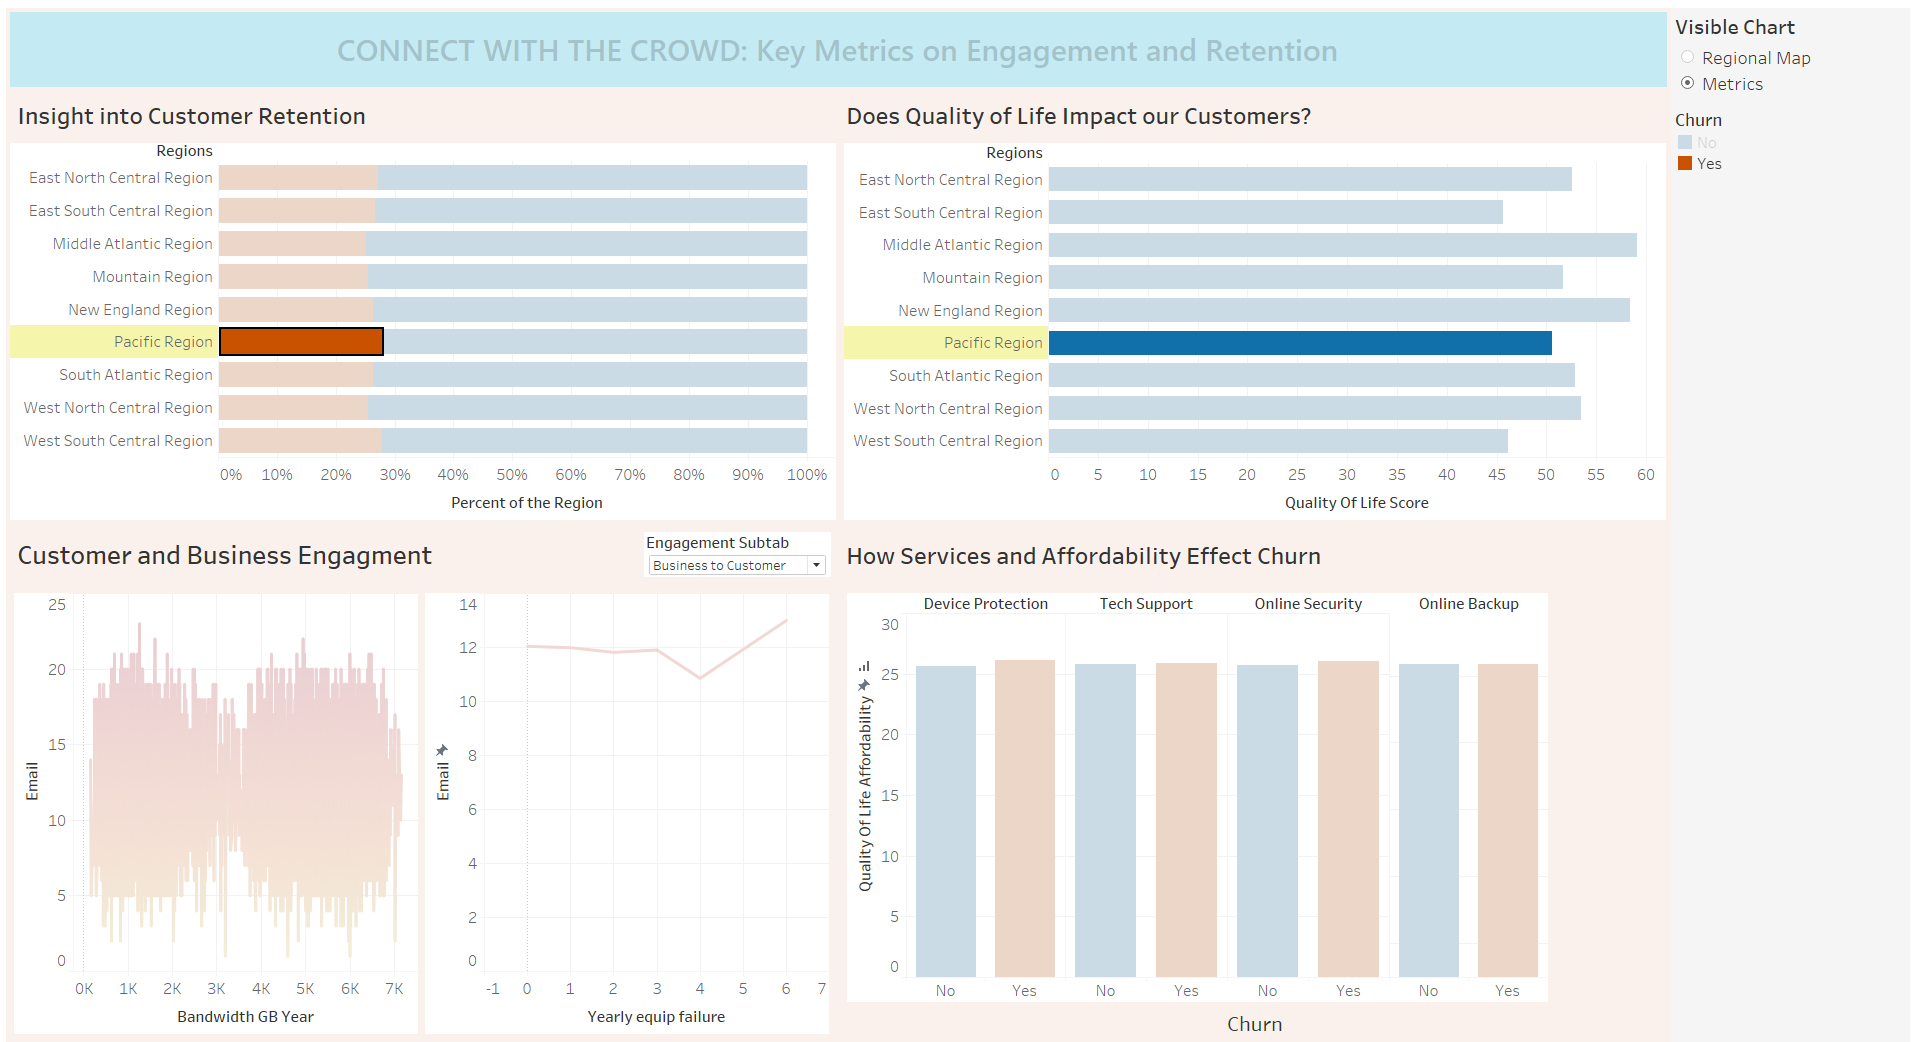

Layout of this report page (visuals, bound fields, positions):
{"tool":"tableau","page":{"name":"Dashboard","canvas":[1000,1000],"units":"permille","ordinal":0},"visuals":[{"type":"parameter","param":"[Parameters].[Parameter 2]","box":[870.6,9.3,124.6,110.3]},{"type":"worksheet","title":"Dash Title","mark":"Automatic","box":[7.2,13.9,860.9,69.3]},{"type":"worksheet","title":"Regions","mark":"Multipolygon","box":[4.8,87.9,865.7,410.8]},{"type":"text","box":[7.2,92.9,430.9,46.5]},{"type":"text","box":[438.1,92.9,430.3,46.5]},{"type":"legend","title":"Regions","param":"[federated.07l10p31xe8tpb171ylyb1hwssl0].[cnt:Customer_id:qk]","box":[870.6,119.6,124.6,88.3]},{"type":"legend","title":"Regional Churn","param":"[federated.07l10p31xe8tpb171ylyb1hwssl0].[none:Churn:nk]","box":[870.6,119.6,124.6,87.1]},{"type":"worksheet","title":"Regional Churn","mark":"Automatic","box":[4.8,143.7,434.1,355]},{"type":"worksheet","title":"Regional QoL","mark":"Automatic","cols":["QualityOfLifeTotalScore"],"box":[438.9,143.7,431.7,355]},{"type":"text","box":[438.1,498.3,432.7,70.9]},{"type":"text","box":[7.2,502.9,310.8,61.6]},{"type":"text","box":[7.2,502.9,140.6,61.6]},{"type":"blank","box":[147.8,502.9,182.9,61.6]},{"type":"parameter","param":"[Parameters].[Parameter 5]","box":[318.1,502.9,117.7,61.6]},{"type":"parameter","param":"[Parameters].[Parameter 3]","box":[330.7,502.9,105,61.6]},{"type":"text","box":[440.6,502.9,156.9,61.6]},{"type":"blank","box":[597.5,502.9,169.6,61.6]},{"type":"parameter","param":"[Parameters].[Parameter 4]","box":[767.1,502.9,101.4,61.6]},{"type":"worksheet","title":"Gender","mark":"Pie","box":[439.6,561,429.2,313.3]},{"type":"worksheet","title":"Income","mark":"Automatic","rows":["Income"],"cols":["Income (bin)"],"box":[4.8,569.1,433.3,1.2]},{"type":"worksheet","title":"Age","mark":"Automatic","rows":["Age"],"cols":["Age (bin)"],"box":[4.8,570.3,433.3,419.3]},{"type":"worksheet","title":"Email vs Bandwidth","mark":"Automatic","rows":["Email"],"cols":["Bandwidth_GB_Year"],"box":[7.2,573.8,213.6,412.3]},{"type":"worksheet","title":"Email vs Failure","mark":"Automatic","rows":["Email"],"cols":["Yearly_equip_failure"],"box":[220.9,573.8,213.6,412.3]},{"type":"worksheet","title":"Contact vs Bandwidth","mark":"Automatic","rows":["Contacts"],"cols":["Bandwidth_GB_Year"],"box":[434.5,573.8,0.6,412.3]},{"type":"worksheet","title":"Contact vs Failure","mark":"Automatic","rows":["Contacts"],"cols":["Yearly_equip_failure"],"box":[435.1,573.8,0.6,412.3]},{"type":"worksheet","title":"Device Protection","mark":"Automatic","rows":["QualityOfLifeAffordability"],"cols":["DeviceProtection"],"box":[440.6,573.8,133.7,412.3]},{"type":"worksheet","title":"Pop. Dens.","mark":"Pie","box":[440.6,573.8,427.9,382.1]},{"type":"worksheet","title":"Tech Support","mark":"Automatic","rows":["QualityOfLifeAffordability"],"cols":["TechSupport"],"box":[574.2,573.8,98.1,412.3]},{"type":"worksheet","title":"Online Security","mark":"Automatic","rows":["QualityOfLifeAffordability"],"cols":["OnlineSecurity"],"box":[672.3,573.8,98.1,412.3]},{"type":"worksheet","title":"Online Backup","mark":"Automatic","rows":["QualityOfLifeAffordability"],"cols":["OnlineBackup"],"box":[770.3,573.8,98.1,412.3]},{"type":"worksheet","title":"Martial Status","mark":"Pie","box":[440.6,574.9,427.9,382.1]},{"type":"worksheet","title":"Monthly Charge","mark":"Automatic","rows":["MonthlyCharge"],"cols":["Monthly Charge (bin)"],"box":[4.8,989.6,433.3,1.2]}]}

Visuals, with their boxes on the dashboard's canvas, which has no fixed pixel size, in thousandths of its width and height (x1, y1, x2, y2). These are canvas units, not pixel positions in the 1918x1042 screenshot, which may show the page scaled, cropped or inside an application window:
parameter: pyautogui.locateOnScreen(871, 9, 995, 120)
"Dash Title" worksheet: pyautogui.locateOnScreen(7, 14, 868, 83)
"Regions" worksheet (Multipolygon marks): pyautogui.locateOnScreen(5, 88, 870, 499)
text: pyautogui.locateOnScreen(7, 93, 438, 139)
text: pyautogui.locateOnScreen(438, 93, 868, 139)
"Regions" legend: pyautogui.locateOnScreen(871, 120, 995, 208)
"Regional Churn" legend: pyautogui.locateOnScreen(871, 120, 995, 207)
"Regional Churn" worksheet: pyautogui.locateOnScreen(5, 144, 439, 499)
"Regional QoL" worksheet: pyautogui.locateOnScreen(439, 144, 871, 499)
text: pyautogui.locateOnScreen(438, 498, 871, 569)
text: pyautogui.locateOnScreen(7, 503, 318, 564)
text: pyautogui.locateOnScreen(7, 503, 148, 564)
blank: pyautogui.locateOnScreen(148, 503, 331, 564)
parameter: pyautogui.locateOnScreen(318, 503, 436, 564)
parameter: pyautogui.locateOnScreen(331, 503, 436, 564)
text: pyautogui.locateOnScreen(441, 503, 598, 564)
blank: pyautogui.locateOnScreen(598, 503, 767, 564)
parameter: pyautogui.locateOnScreen(767, 503, 868, 564)
"Gender" worksheet (Pie marks): pyautogui.locateOnScreen(440, 561, 869, 874)
"Income" worksheet: pyautogui.locateOnScreen(5, 569, 438, 570)
"Age" worksheet: pyautogui.locateOnScreen(5, 570, 438, 990)
"Email vs Bandwidth" worksheet: pyautogui.locateOnScreen(7, 574, 221, 986)
"Email vs Failure" worksheet: pyautogui.locateOnScreen(221, 574, 434, 986)
"Contact vs Bandwidth" worksheet: pyautogui.locateOnScreen(434, 574, 435, 986)
"Contact vs Failure" worksheet: pyautogui.locateOnScreen(435, 574, 436, 986)
"Device Protection" worksheet: pyautogui.locateOnScreen(441, 574, 574, 986)
"Pop. Dens." worksheet (Pie marks): pyautogui.locateOnScreen(441, 574, 868, 956)
"Tech Support" worksheet: pyautogui.locateOnScreen(574, 574, 672, 986)
"Online Security" worksheet: pyautogui.locateOnScreen(672, 574, 770, 986)
"Online Backup" worksheet: pyautogui.locateOnScreen(770, 574, 868, 986)
"Martial Status" worksheet (Pie marks): pyautogui.locateOnScreen(441, 575, 868, 957)
"Monthly Charge" worksheet: pyautogui.locateOnScreen(5, 990, 438, 991)
